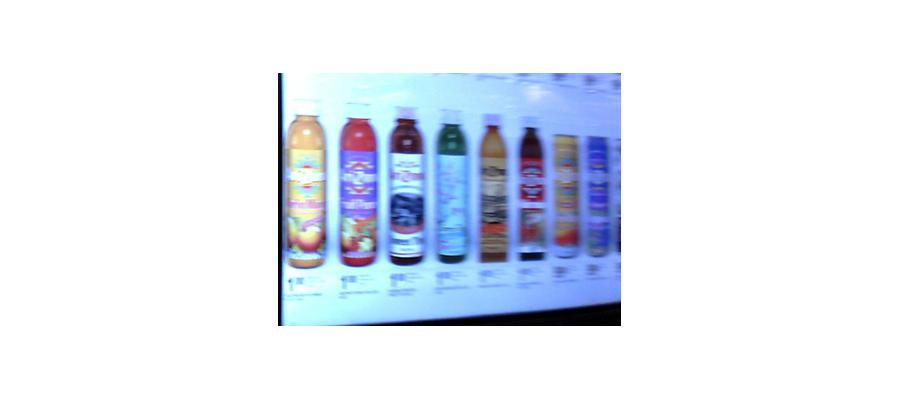bottle: (508, 99, 569, 260), (335, 102, 381, 267), (285, 103, 330, 266), (385, 105, 431, 264), (428, 111, 469, 263), (475, 108, 513, 258)
